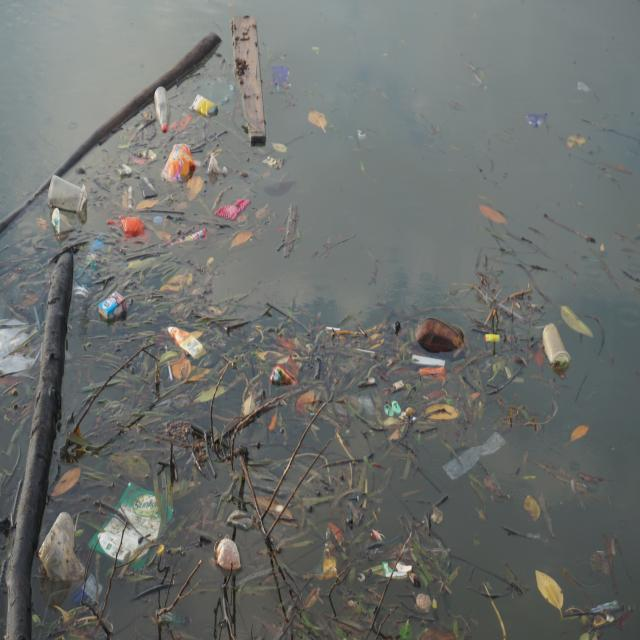Botol Plastik: (41, 525, 106, 612), (155, 86, 171, 133)
Bungkus Makanan: (167, 227, 209, 254)
Bungkus Minuman: (48, 174, 90, 217), (543, 322, 573, 379), (50, 208, 76, 238)
Kantong Plastik: (443, 433, 508, 482), (110, 213, 150, 248)
